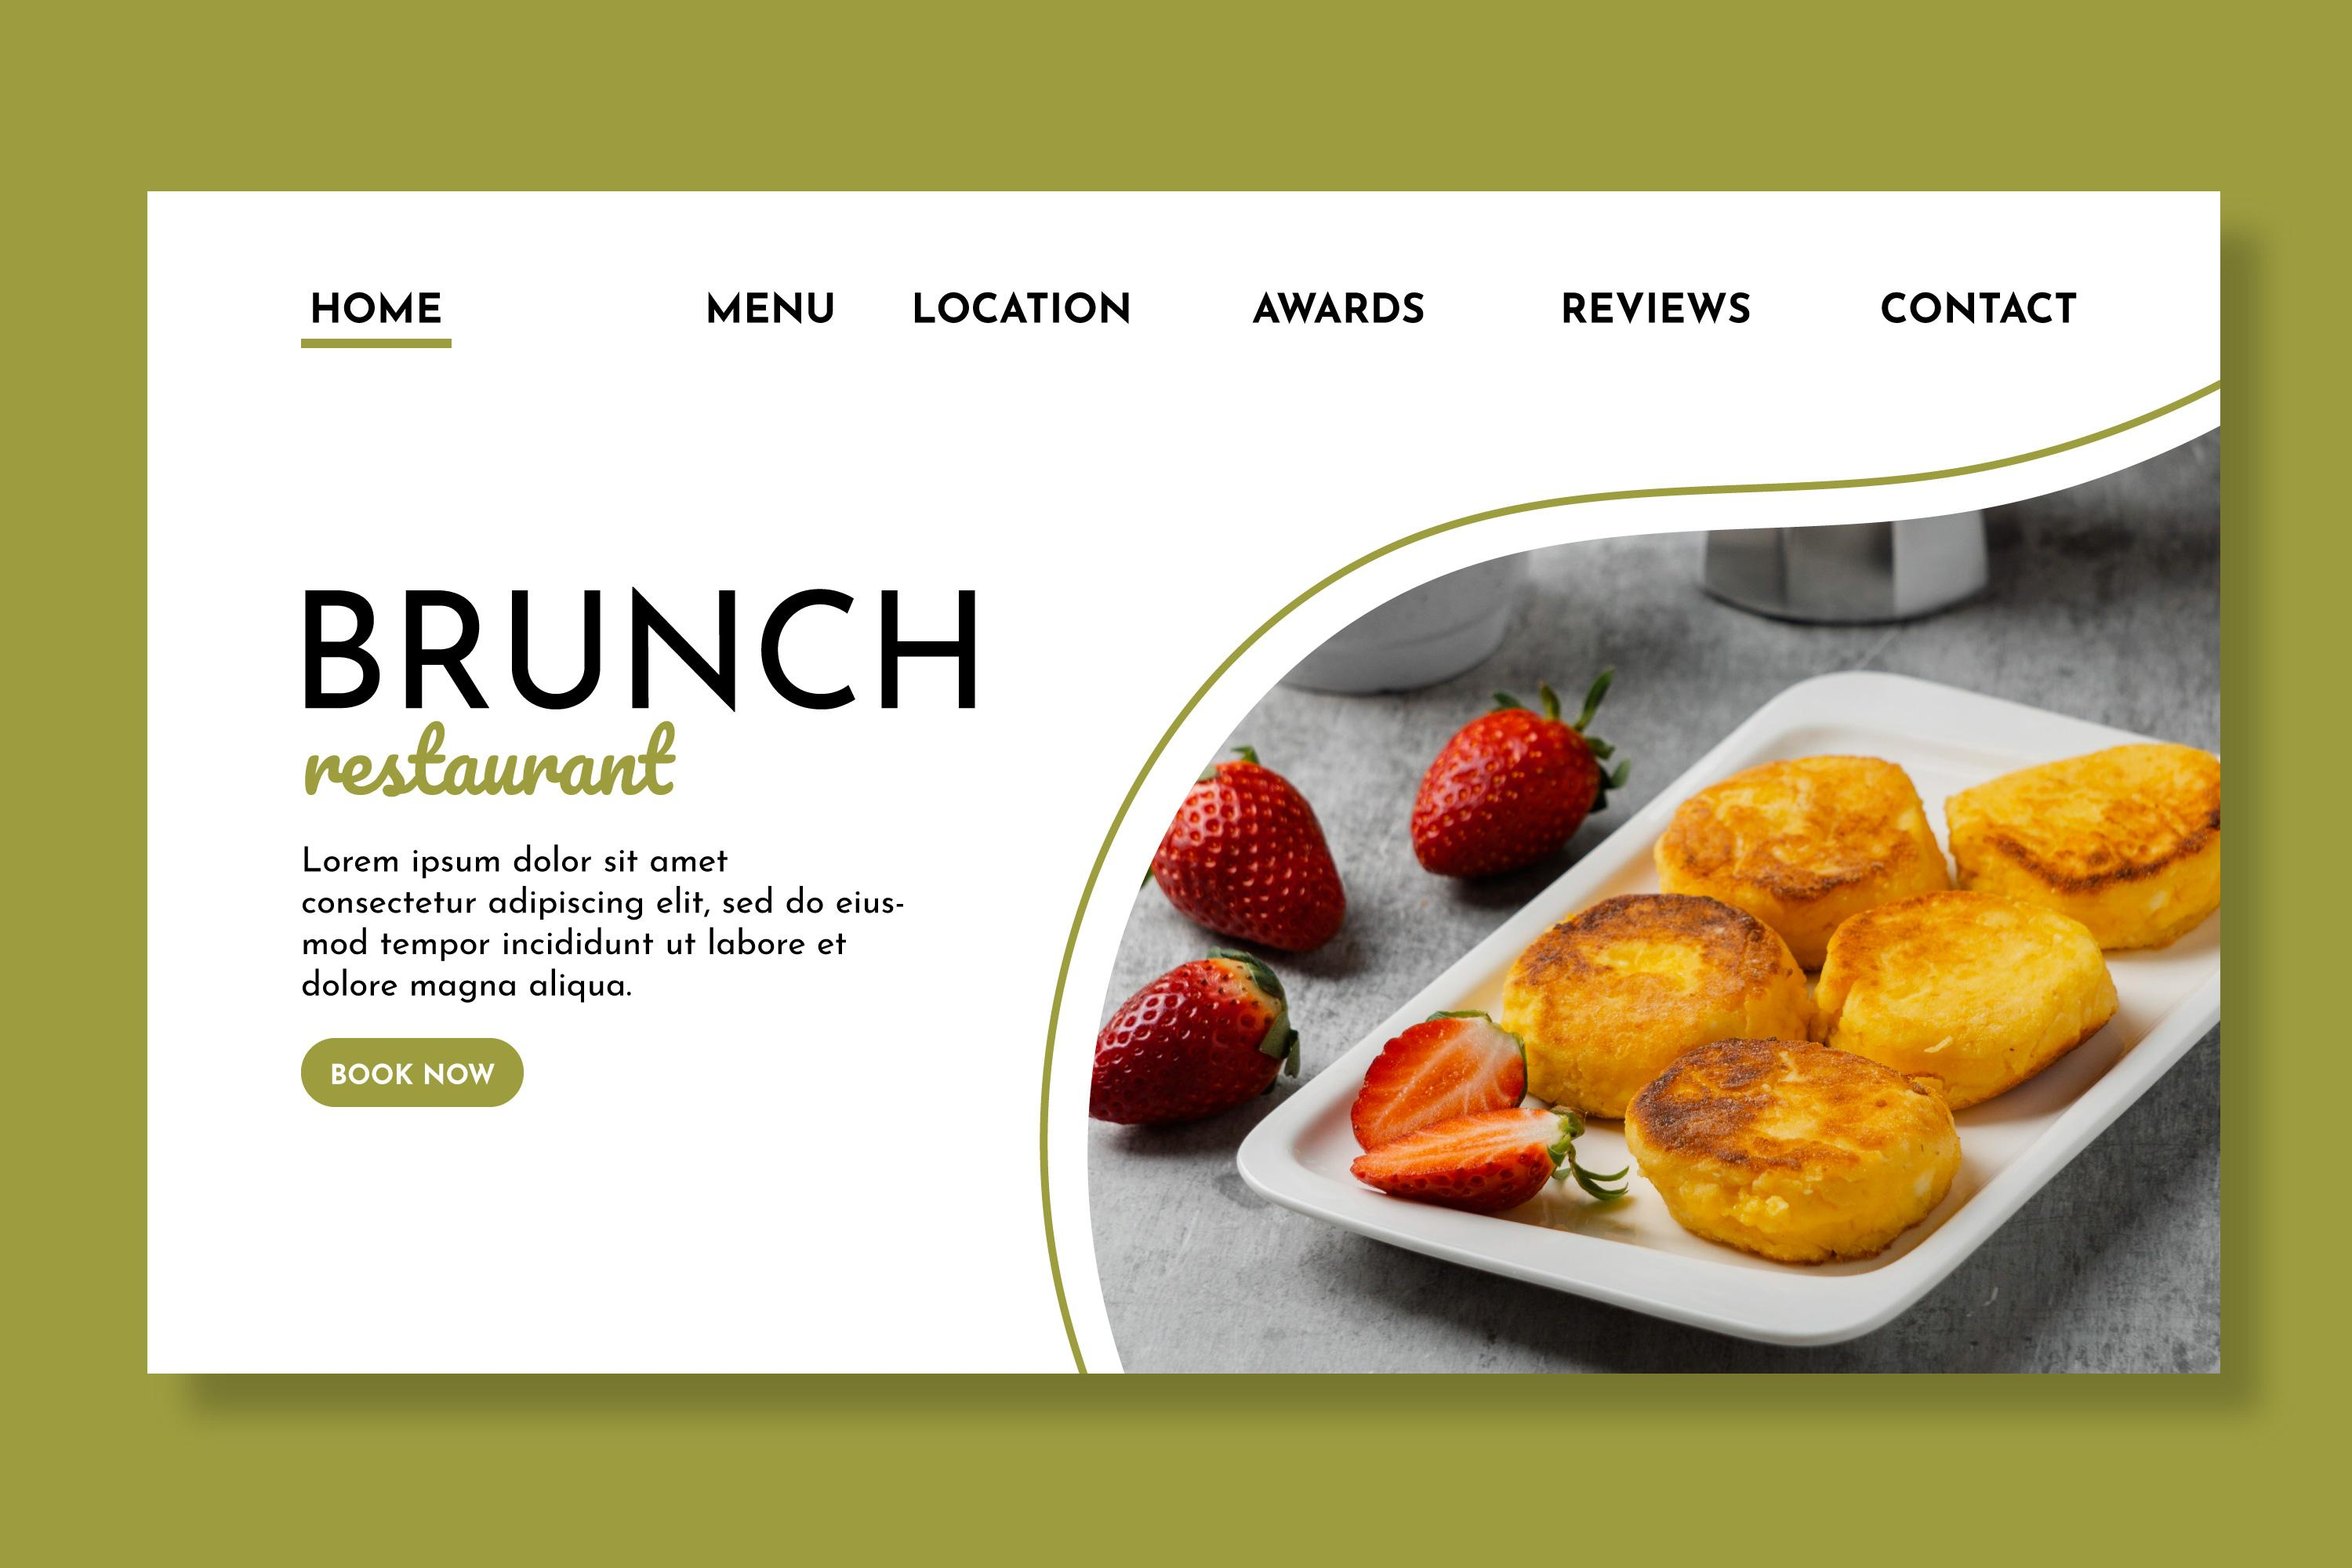menu: (289, 241, 2163, 422)
